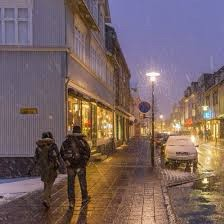people: (66, 126, 88, 205), (38, 132, 56, 208)
